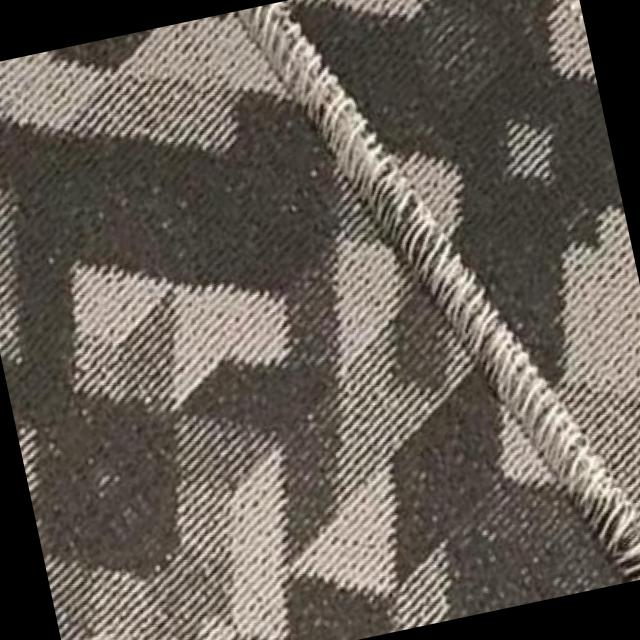gray stitch: (241, 0, 481, 325), (441, 258, 640, 604)
